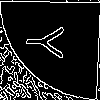Y: (25, 24, 73, 60)
